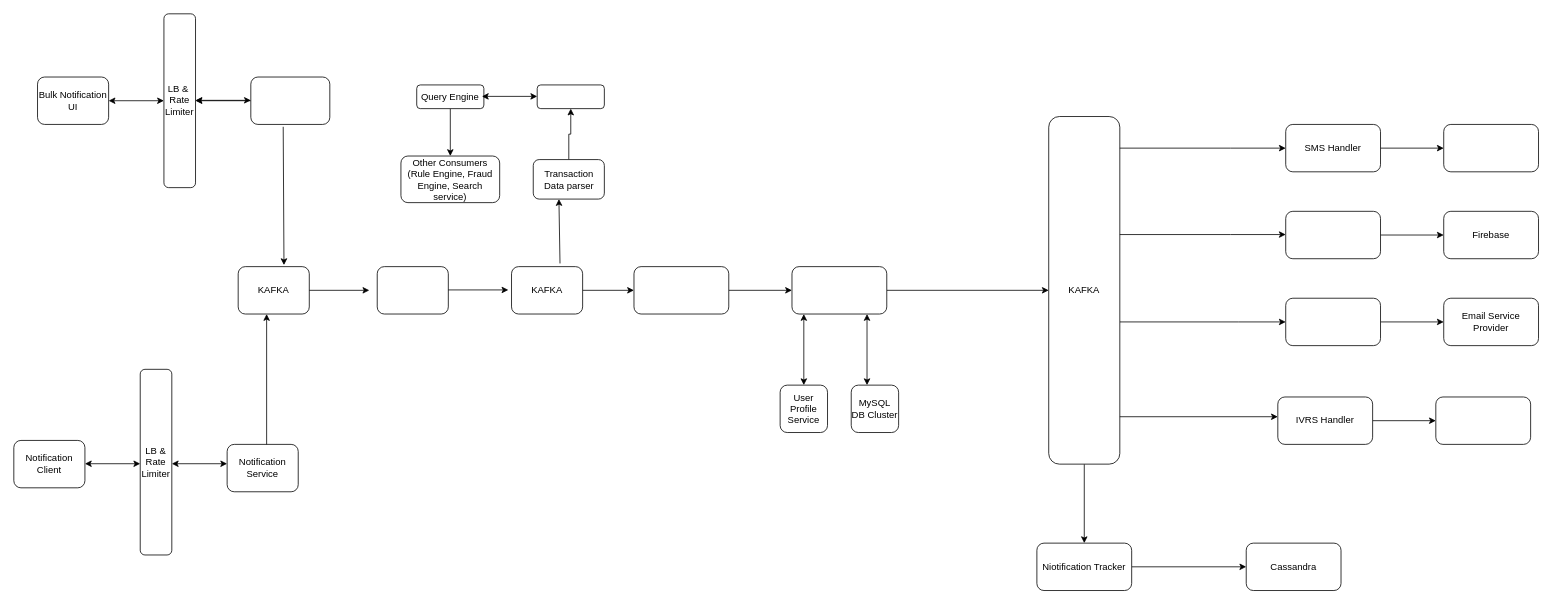
This 1552x604 diagram has some shape labels left out. Each missing label, with the box of its shape:
Bulk Notification Service: (250, 76, 330, 124)
Email Handler: (1285, 297, 1381, 346)
ES Cluster: (536, 84, 604, 109)
In App Notifications Handler: (1285, 211, 1381, 259)
IVRS Vendor: (1435, 396, 1531, 444)
Notification Handler + Preferences: (791, 266, 887, 314)
Notification Priortizer and Validator: (376, 266, 448, 314)
Rate Limiter: (633, 266, 729, 314)
SMS Service Provider: (1443, 124, 1539, 172)
